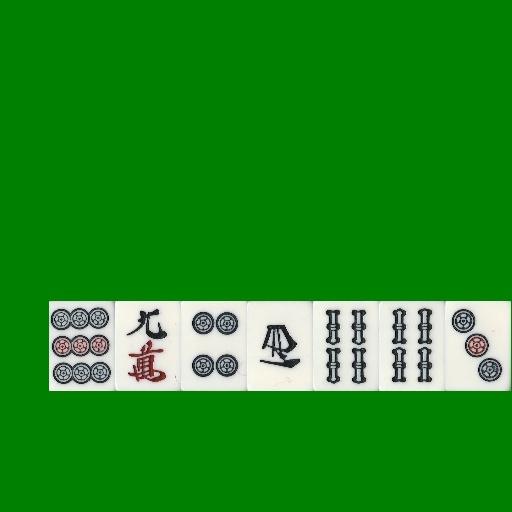3p: (445, 301, 511, 391)
4p: (181, 301, 247, 391)
4s: (313, 301, 379, 391), (379, 301, 445, 391)
9m: (115, 301, 181, 391)
9p: (49, 301, 115, 391)
west: (247, 301, 313, 391)
